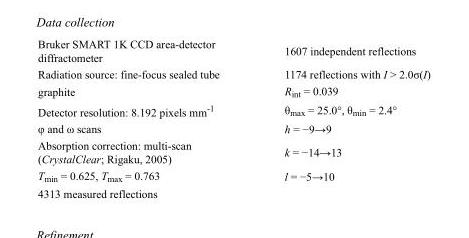table: (37, 37, 429, 199)
table column: (37, 37, 251, 199), (251, 37, 429, 199)
table row: (37, 136, 429, 166), (37, 37, 429, 65), (37, 100, 429, 119), (37, 82, 429, 100), (37, 166, 429, 184), (37, 65, 429, 82), (37, 119, 429, 136), (37, 184, 429, 199)
